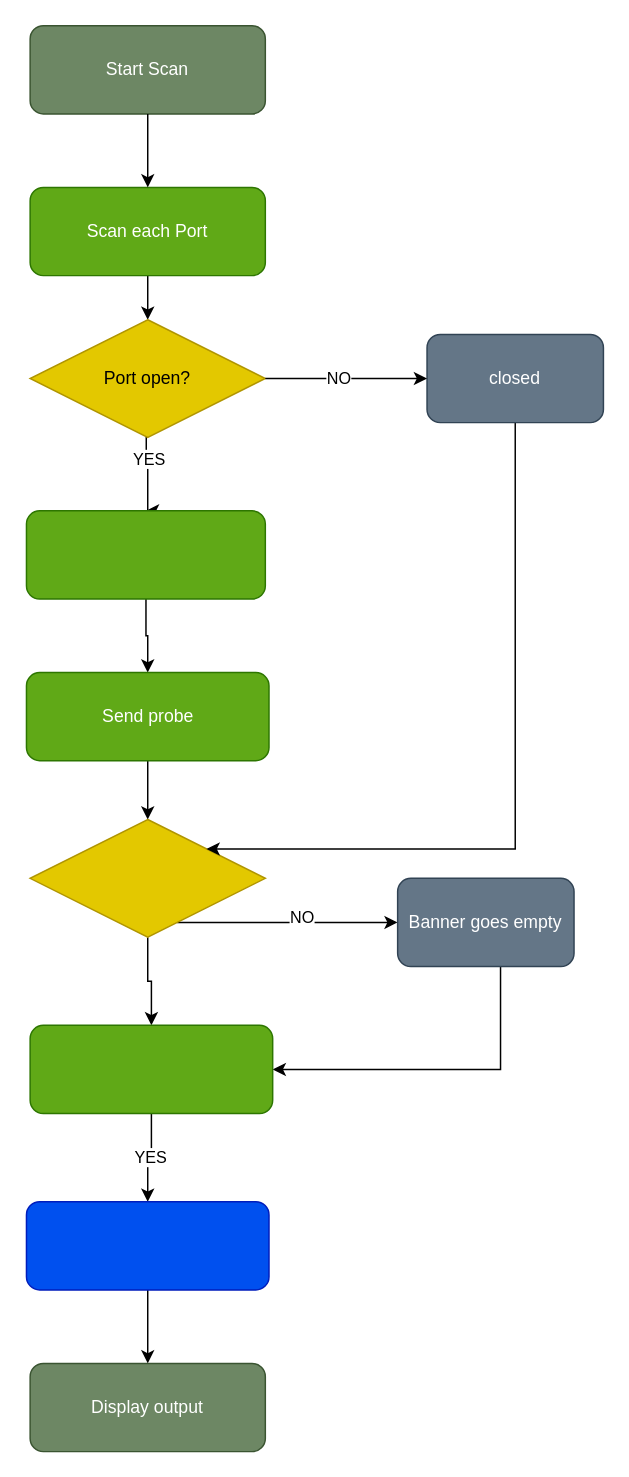
This 629x1477 diagram has some shape labels left out. The shapes that lost their labels are listed below. From the top down, each one's box as (x1, y1, x2, y2) in pixels, then its label:
(25, 509, 265, 599): Grab Banner(port)
(29, 818, 265, 937): Response received?
(29, 1024, 273, 1114): read scan results
(25, 1200, 269, 1290): append (port, status, banner)
